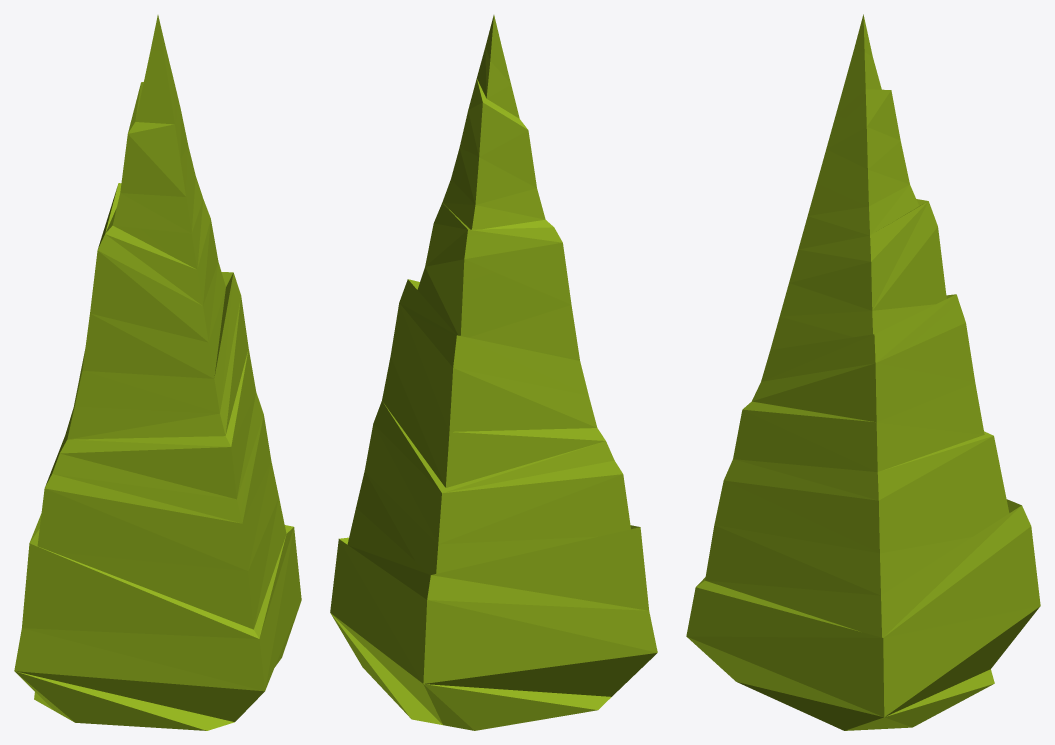
File: Vegetation_Modular_Tree_Foliage_Clump_Spike_01.fbx
3 renders of one model, left to right at view 1: azimuth 30°, elevation 25°; view 2: azimuth 150°, elevation 25°; view 3: azimuth 270°, elevation 25°, orthographic.
Parts seen in each view (by area): view 1: Vegetation_Modular_Tree_Foliage_Clump_Spike_01; view 2: Vegetation_Modular_Tree_Foliage_Clump_Spike_01; view 3: Vegetation_Modular_Tree_Foliage_Clump_Spike_01.
Boxes of the visible parts, x1,y1,x2,y2 form: Vegetation_Modular_Tree_Foliage_Clump_Spike_01: (14, 15, 301, 730); Vegetation_Modular_Tree_Foliage_Clump_Spike_01: (330, 15, 657, 730); Vegetation_Modular_Tree_Foliage_Clump_Spike_01: (686, 14, 1040, 730).
Size of the model in its own units: 3014 by 6208 by 3014.
